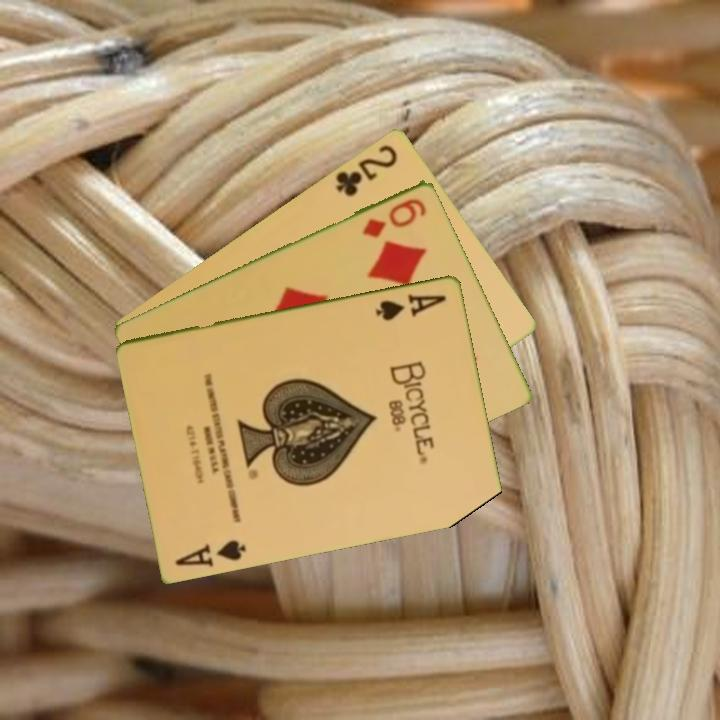2c: (332, 140, 401, 199)
6d: (359, 194, 430, 240)
As: (171, 536, 250, 569), (372, 290, 450, 323)
